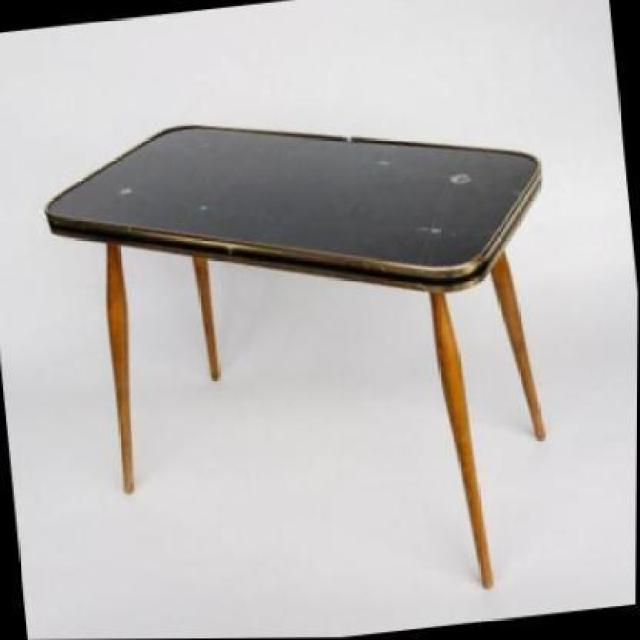tables: (43, 122, 546, 589)
